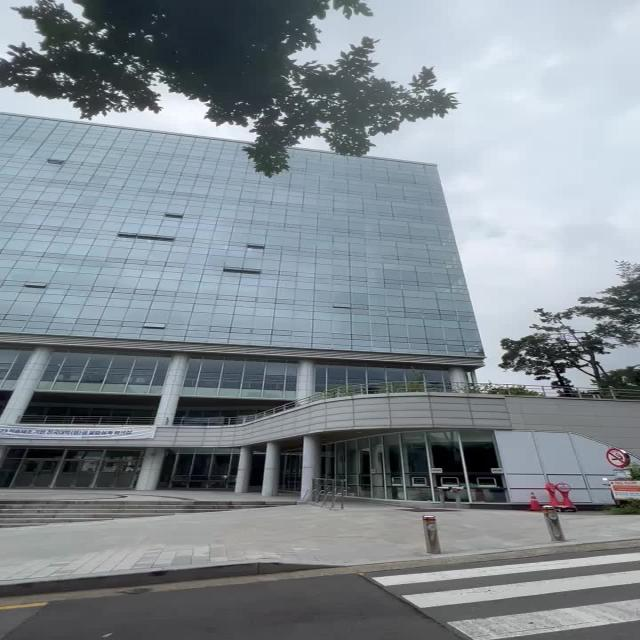building: (9, 139, 480, 480)
